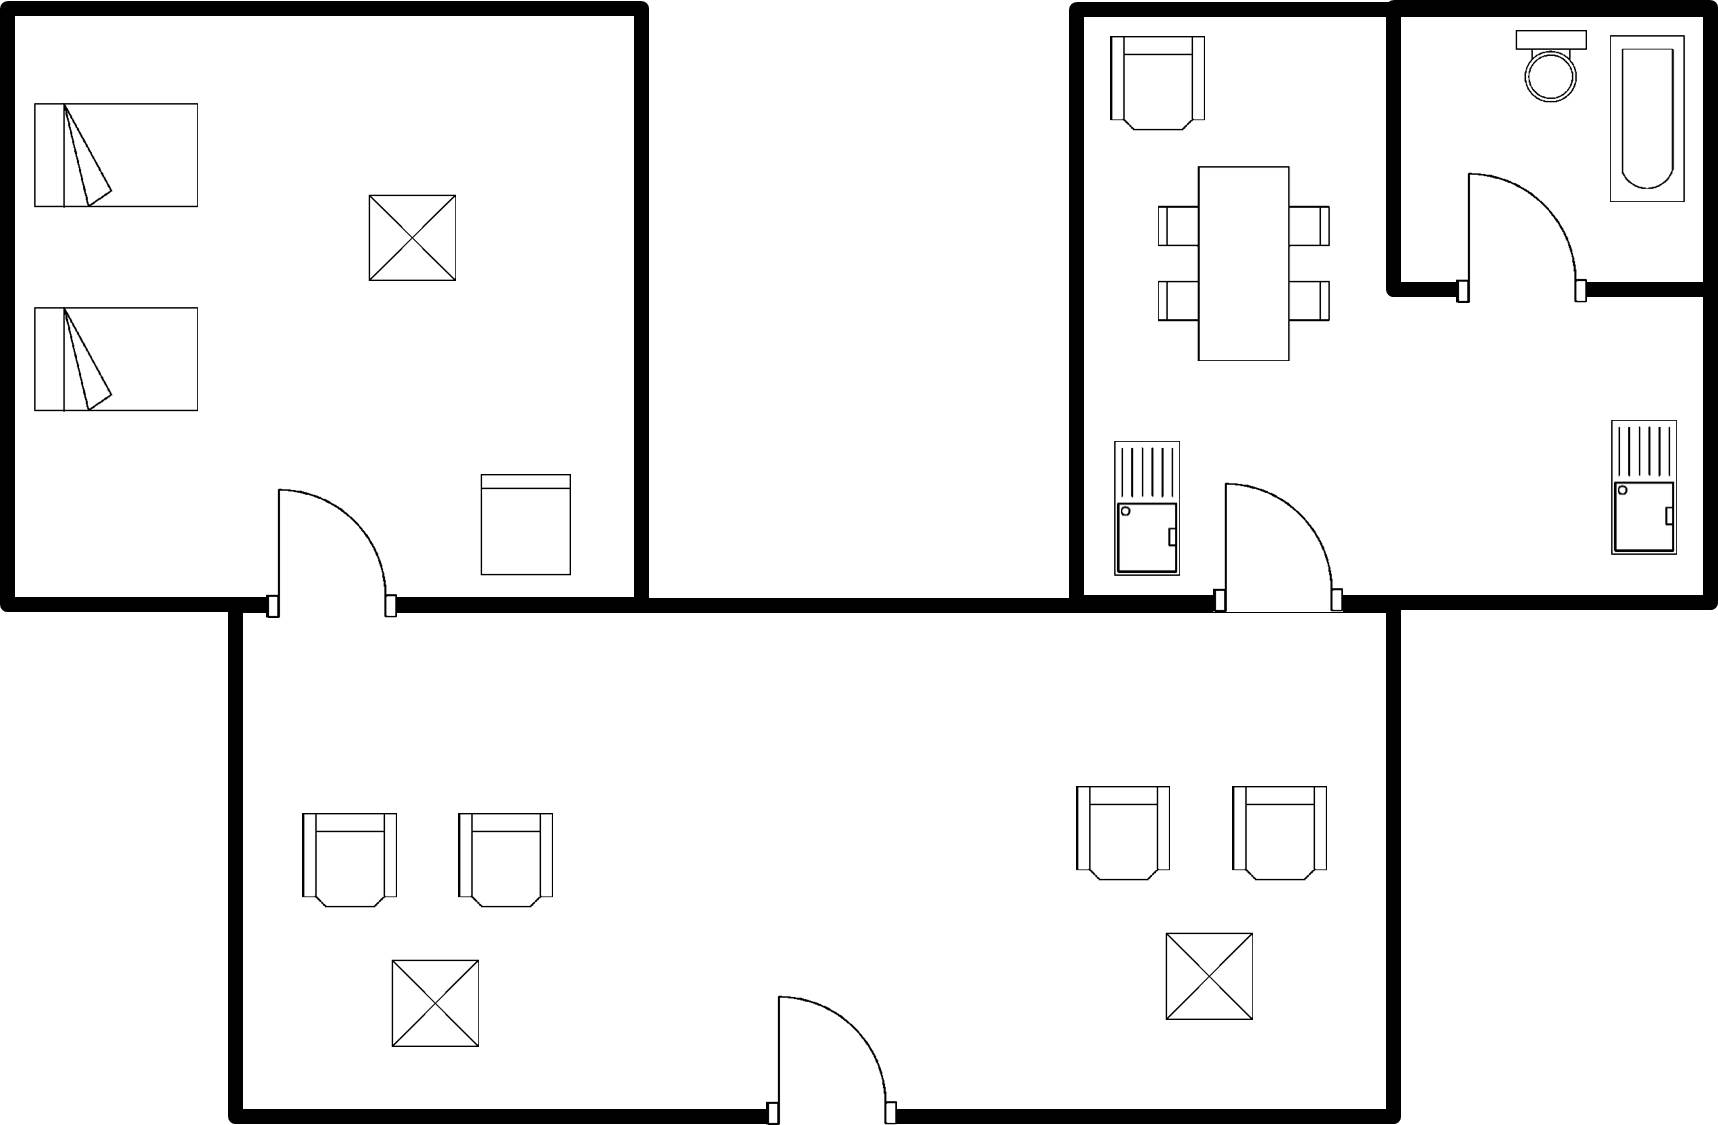armchair: (446, 803, 563, 920), (291, 803, 407, 921), (1221, 774, 1334, 893), (1069, 774, 1182, 892), (1101, 29, 1214, 140)
bed: (26, 93, 207, 221), (23, 300, 209, 423)
coffee_table: (358, 183, 465, 294), (377, 951, 488, 1056), (1154, 924, 1265, 1029)
dining_table: (1147, 157, 1338, 372)
large_sink: (1504, 21, 1591, 115)
sink: (1597, 409, 1686, 566), (1104, 431, 1188, 584)
small_sofa: (469, 461, 580, 584)
tub: (1601, 28, 1697, 216)
